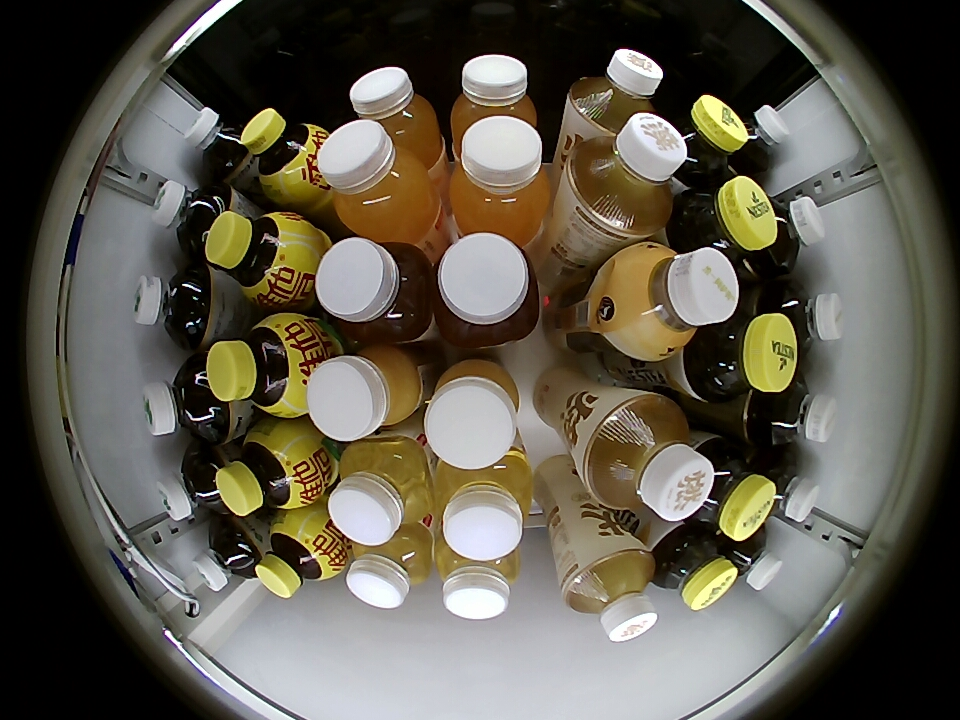asamu: (609, 244, 740, 359)
chacui: (685, 312, 797, 401), (679, 440, 775, 541), (673, 177, 777, 264), (651, 525, 736, 611), (666, 95, 746, 184)
chapai: (432, 233, 542, 348), (316, 237, 435, 342)
chapai2: (434, 445, 534, 561), (329, 435, 433, 546), (346, 523, 434, 609), (435, 536, 521, 620)
damaicha: (142, 356, 228, 442), (132, 266, 213, 349), (152, 180, 233, 255), (158, 447, 228, 521), (193, 520, 261, 591), (185, 107, 250, 180)
nfc: (308, 345, 423, 441), (424, 359, 520, 470)
rancha-2: (579, 391, 713, 521), (563, 112, 687, 238), (560, 541, 658, 643), (567, 48, 663, 137)
weic: (319, 120, 442, 241), (447, 116, 553, 243), (349, 67, 444, 165), (449, 55, 539, 142)
weitaningmeng-bottle: (206, 314, 315, 417), (205, 208, 312, 307), (215, 422, 316, 516), (241, 108, 328, 199), (256, 513, 342, 599)
wulongcha: (762, 373, 838, 446), (755, 195, 825, 273), (769, 283, 844, 352), (758, 457, 820, 524), (731, 104, 790, 173), (722, 528, 782, 591)
